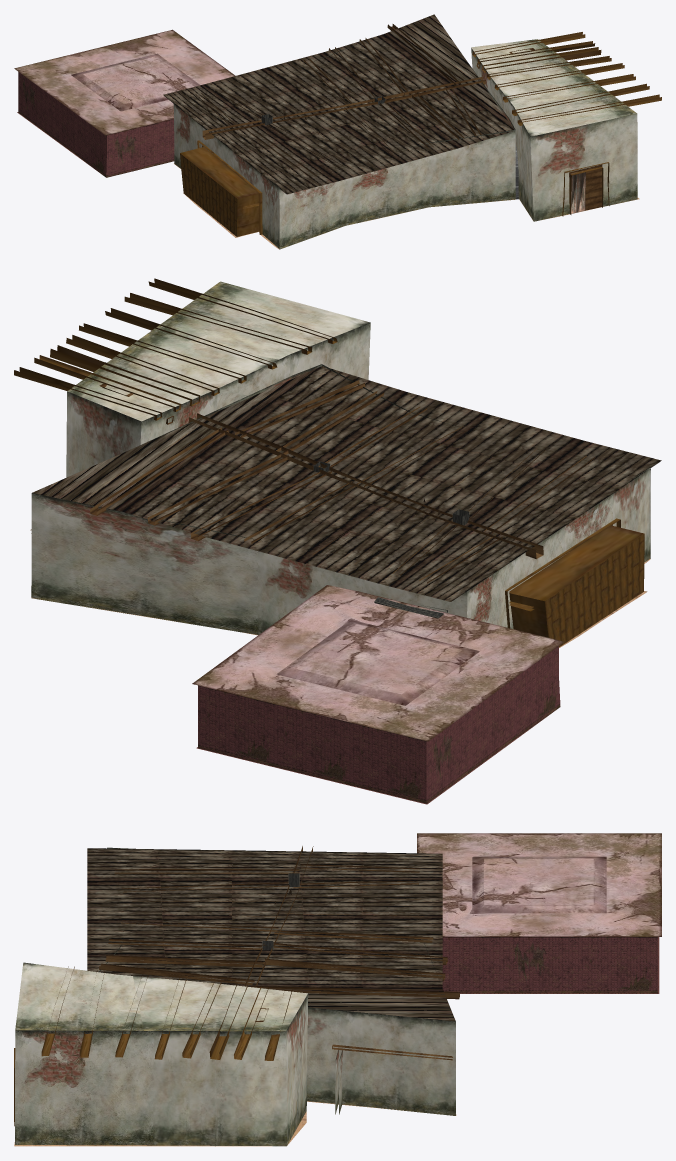
The model's file is interior_tavern_vip.fbx.
3 views of the same model, one above another, from view 1: azimuth 30°, elevation 25°; view 2: azimuth 150°, elevation 25°; view 3: azimuth 270°, elevation 25° (orthographic). The views are drawn at different scales.
Visible parts, largest first — view 1: tavern_int_v2s12:Ceiling1, TavernWall, tavern_int_v2s12:TavernInnWall1, int_vip_room:ceiling, tavern_int_v2s12:Ceiling2, tavern_int_v2s12:WallStorage, int_vip_room:wall3, tavern_int_v2s12:TavernWall2, int_vip_room:ceiling_center, int_vip_room:wall4, polySurface2, int_vip_room:ceiling_mid (+11 smaller); view 2: tavern_int_v2s12:Ceiling1, TavernWall, int_vip_room:ceiling, tavern_int_v2s12:Ceiling2, int_vip_room:wall2, tavern_int_v2s12:WallStorage, tavern_int_v2s12:TavernInnWall1, int_vip_room:wall3, tavern_int_v2s12:TavernWall2, int_vip_room:ceiling_center, int_vip_room:ceiling_mid, polySurface2 (+12 smaller); view 3: tavern_int_v2s12:Ceiling1, tavern_int_v2s12:TavernInnWall1, int_vip_room:ceiling, tavern_int_v2s12:Ceiling2, TavernWall, int_vip_room:wall1, int_vip_room:ceiling_center, int_vip_room:ceiling_mid, tavern_int_v2s12:beam_2, tavern_int_v2s12:beam_3, tavern_int_v2s12:beam_11, tavern_int_v2s12:beam_10 (+8 smaller).
Part boxes in pixels (left/top/right/bottom): tavern_int_v2s12:Ceiling1: left=163, top=14, right=513, bottom=194; TavernWall: left=279, top=39, right=515, bottom=249; tavern_int_v2s12:TavernInnWall1: left=471, top=48, right=637, bottom=221; int_vip_room:ceiling: left=14, top=29, right=235, bottom=135; tavern_int_v2s12:Ceiling2: left=471, top=39, right=636, bottom=136; tavern_int_v2s12:WallStorage: left=180, top=140, right=262, bottom=236; int_vip_room:wall3: left=18, top=72, right=106, bottom=177; tavern_int_v2s12:TavernWall2: left=173, top=104, right=279, bottom=248; int_vip_room:ceiling_center: left=83, top=56, right=195, bottom=104; int_vip_room:wall4: left=106, top=119, right=174, bottom=177; polySurface2: left=202, top=76, right=485, bottom=139; int_vip_room:ceiling_mid: left=71, top=53, right=200, bottom=111; tavern_int_v2s12:Ceiling1: left=32, top=366, right=661, bottom=601; TavernWall: left=31, top=364, right=650, bottom=634; int_vip_room:ceiling: left=192, top=585, right=564, bottom=741; tavern_int_v2s12:Ceiling2: left=67, top=281, right=370, bottom=421; int_vip_room:wall2: left=198, top=685, right=426, bottom=803; tavern_int_v2s12:WallStorage: left=505, top=518, right=644, bottom=647; tavern_int_v2s12:TavernInnWall1: left=66, top=322, right=370, bottom=477; int_vip_room:wall3: left=426, top=646, right=560, bottom=803; tavern_int_v2s12:TavernWall2: left=467, top=467, right=650, bottom=628; int_vip_room:ceiling_center: left=294, top=623, right=462, bottom=694; int_vip_room:ceiling_mid: left=276, top=620, right=479, bottom=705; polySurface2: left=188, top=413, right=543, bottom=558; tavern_int_v2s12:Ceiling1: left=87, top=848, right=455, bottom=1021; tavern_int_v2s12:TavernInnWall1: left=15, top=993, right=308, bottom=1146; int_vip_room:ceiling: left=417, top=833, right=661, bottom=936; tavern_int_v2s12:Ceiling2: left=15, top=962, right=307, bottom=1031; TavernWall: left=99, top=935, right=455, bottom=1115; int_vip_room:wall1: left=442, top=937, right=657, bottom=993; int_vip_room:ceiling_center: left=484, top=858, right=594, bottom=905; int_vip_room:ceiling_mid: left=472, top=856, right=606, bottom=913; tavern_int_v2s12:beam_2: left=250, top=986, right=459, bottom=999; tavern_int_v2s12:beam_3: left=263, top=958, right=445, bottom=981; tavern_int_v2s12:beam_11: left=105, top=955, right=263, bottom=967; tavern_int_v2s12:beam_10: left=99, top=963, right=254, bottom=985.
Bounding box in the file's own units: 13238 × 2640 × 13126.
3 materials, 3 textured.
